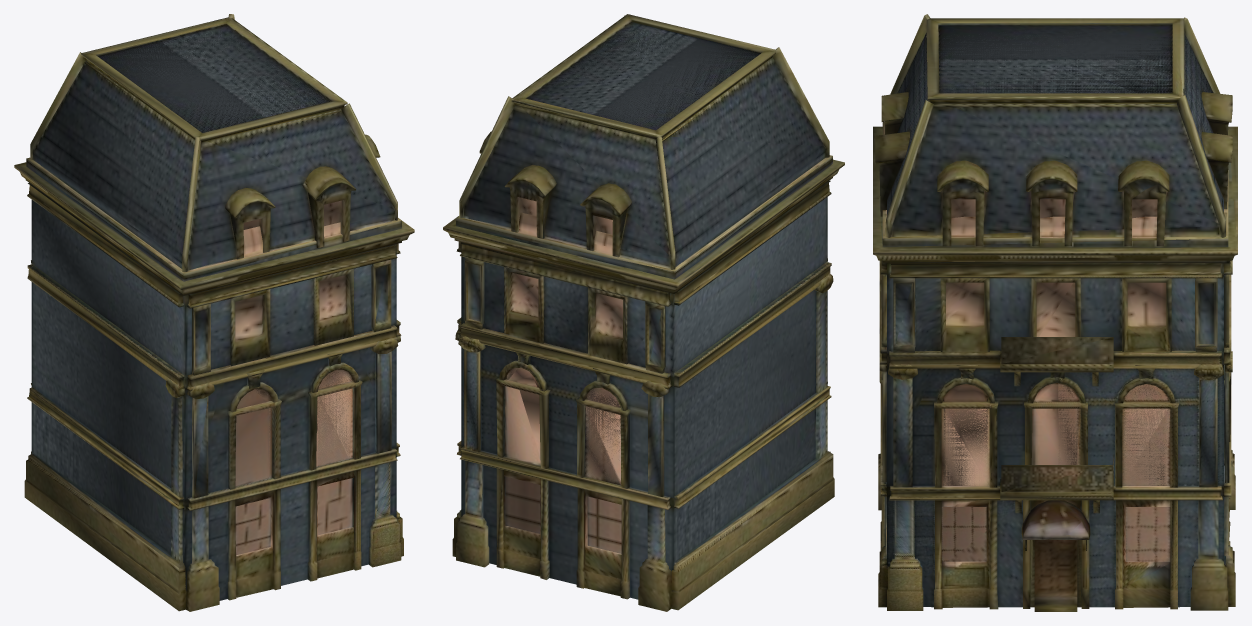
Rendered from tripo_convert_573f29af-705a-4d92-99a7-86c71833b9c9.fbx.
3 renders of one model, left to right at view 1: azimuth 30°, elevation 25°; view 2: azimuth 150°, elevation 25°; view 3: azimuth 270°, elevation 25°, orthographic. The views are drawn at different scales.
Visible parts, largest first — view 1: tripo_node_573f29af; view 2: tripo_node_573f29af; view 3: tripo_node_573f29af.
Boxes of the visible parts, left/top/right/bottom form: tripo_node_573f29af: left=14, top=14, right=414, bottom=611; tripo_node_573f29af: left=443, top=14, right=844, bottom=611; tripo_node_573f29af: left=873, top=14, right=1237, bottom=611.
Bounding box in the file's own units: 0.5723 × 0.998 × 0.666.
Materials: 1 (1 with a texture image).
